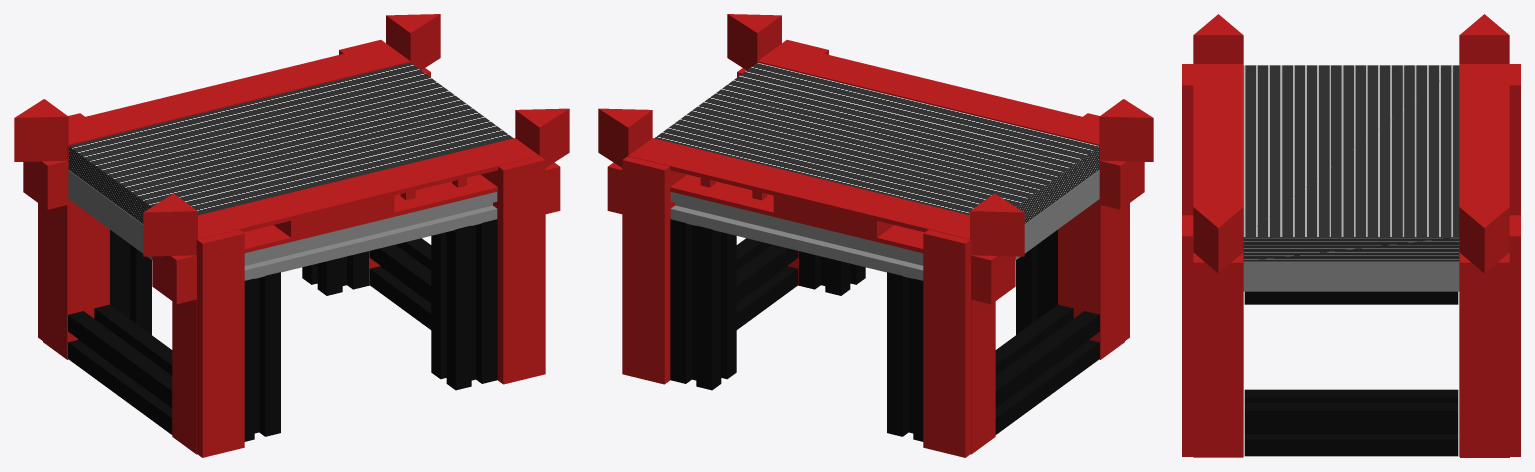
The model's file is Conveyor_Belt.obj.
3 views of the same model, side by side, from view 1: azimuth 30°, elevation 25°; view 2: azimuth 150°, elevation 25°; view 3: azimuth 270°, elevation 25° (orthographic). The views are drawn at different scales.
Parts seen in each view (by area): view 1: Conveyor_Structure, Belt; view 2: Conveyor_Structure, Belt; view 3: Conveyor_Structure, Belt.
Part boxes in pixels (bbox=[...]): Conveyor_Structure: bbox=[14, 14, 569, 457]; Belt: bbox=[68, 62, 513, 223]; Conveyor_Structure: bbox=[598, 14, 1153, 457]; Belt: bbox=[654, 62, 1099, 223]; Conveyor_Structure: bbox=[1182, 14, 1520, 457]; Belt: bbox=[1243, 65, 1459, 261].
Bounding box in the file's own units: 4.48 × 2.44 × 2.99.
Materials: 4 (1 with a texture image).
